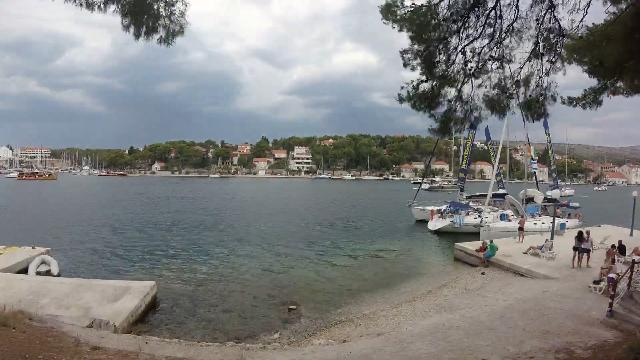Freighter: (14, 166, 62, 184)
